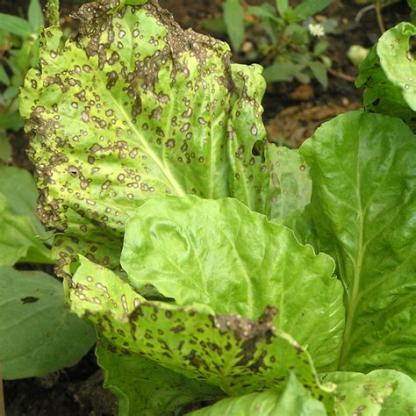black-spot: (55, 26, 184, 151), (149, 274, 300, 358), (38, 124, 150, 206)
